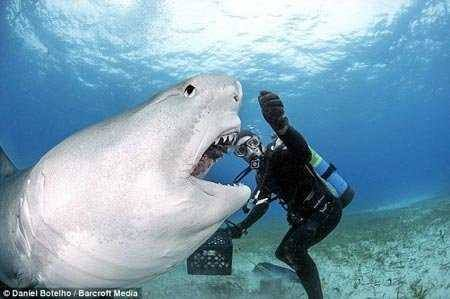shark: (1, 64, 260, 290)
